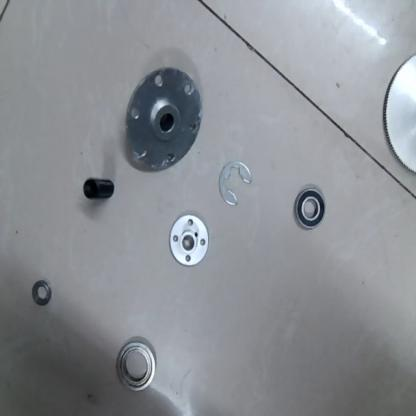FOD: (123, 64, 205, 174), (166, 215, 212, 271), (115, 339, 158, 395), (216, 159, 258, 206), (292, 187, 327, 235), (81, 174, 119, 206), (30, 278, 53, 308)
